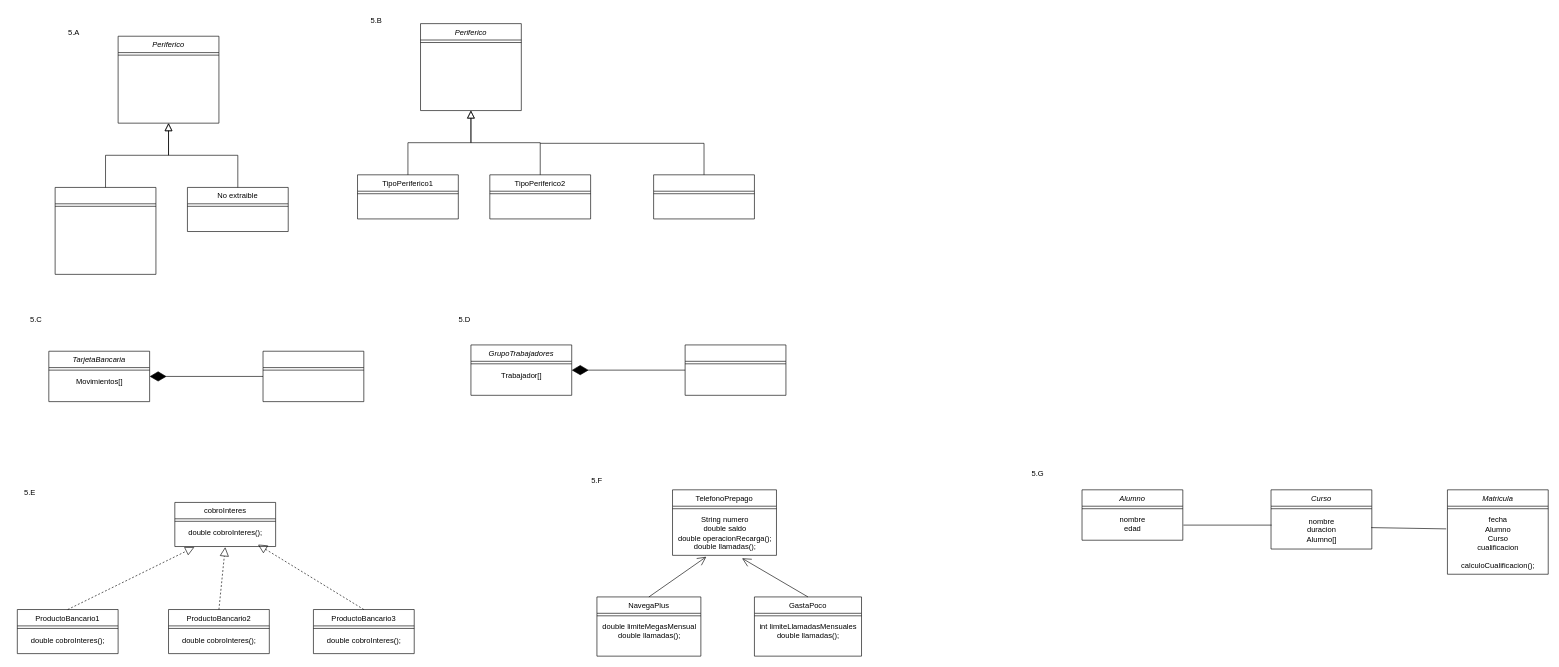
The diagram is 1559 pixels wide and 667 high, and some of its shapes have lost their labels. Here are the shapes that lost their labels. From the top down, the centre of each, then its label:
At (703,196): "TipoPeriferico3".
At (105,230): "Extraible".
At (313,376): "Movimientos".
At (735,369): "Trabajador".
